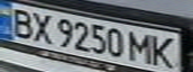0: (106, 26, 127, 59)
2: (69, 19, 90, 53)
5: (87, 22, 109, 55)
9: (51, 16, 75, 50)
B: (3, 6, 39, 39)
K: (148, 34, 181, 70)
M: (127, 30, 157, 64)
X: (27, 10, 57, 45)
